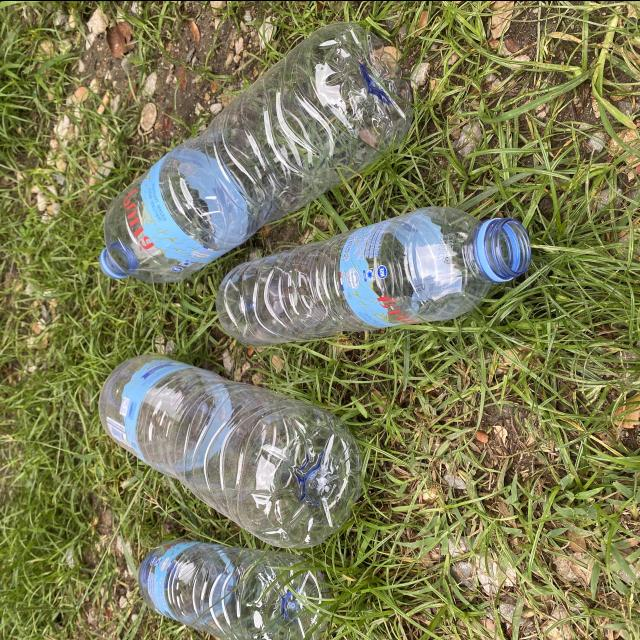plastik: (100, 22, 412, 281), (99, 354, 362, 546), (216, 206, 531, 345), (138, 539, 329, 640)
